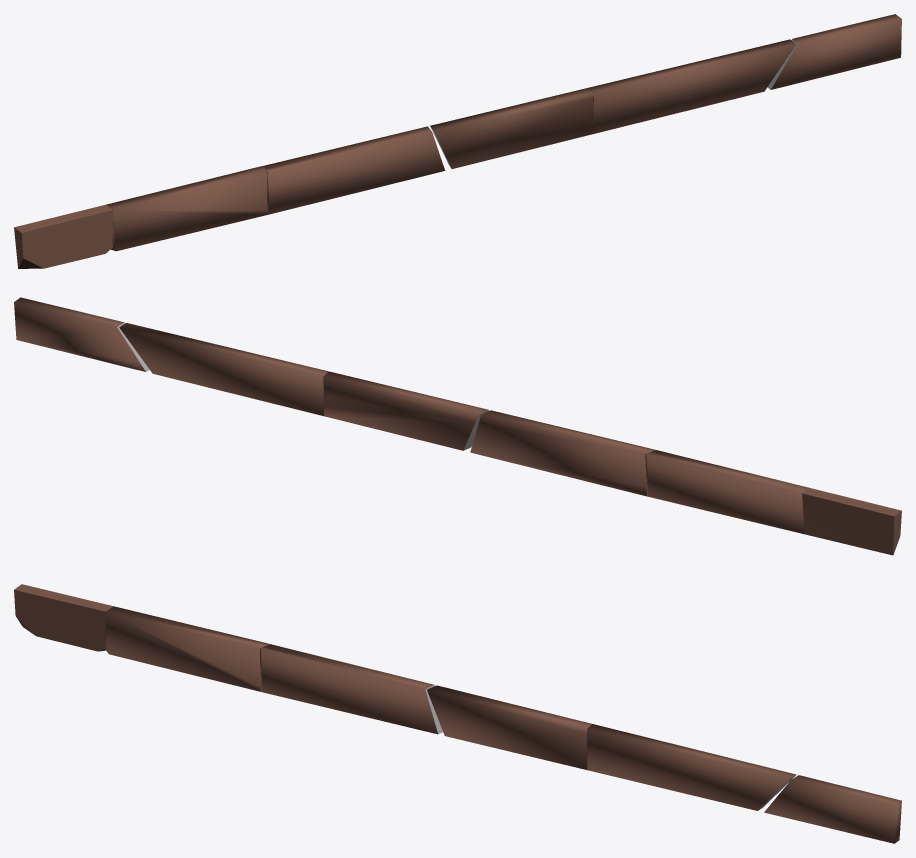
Rendered from Railing_DEST.fbx.
3 views of the same model, one above another, from view 1: azimuth 30°, elevation 25°; view 2: azimuth 150°, elevation 25°; view 3: azimuth 330°, elevation 25° (orthographic).
Parts seen in each view (by area): view 1: polySurface129_cell.011, polySurface129_cell.003, polySurface129_cell.004, polySurface129_cell.012, polySurface129_cell, polySurface129_cell.002, polySurface129_cell.006; view 2: polySurface129_cell.011, polySurface129_cell.003, polySurface129_cell.004, polySurface129_cell.012, polySurface129_cell, polySurface129_cell.007, polySurface129_cell.006; view 3: polySurface129_cell.011, polySurface129_cell.003, polySurface129_cell.004, polySurface129_cell.012, polySurface129_cell, polySurface129_cell.002, polySurface129_cell.006.
Boxes of the visible parts, x1,y1,x2,y2 form: polySurface129_cell.011: [586, 39, 795, 133]; polySurface129_cell.003: [264, 126, 445, 214]; polySurface129_cell.004: [106, 166, 267, 251]; polySurface129_cell.012: [430, 88, 594, 168]; polySurface129_cell: [767, 14, 901, 89]; polySurface129_cell.002: [21, 210, 113, 268]; polySurface129_cell.006: [14, 204, 112, 232]; polySurface129_cell.011: [119, 323, 328, 416]; polySurface129_cell.003: [470, 410, 655, 496]; polySurface129_cell.004: [645, 450, 809, 534]; polySurface129_cell.012: [323, 371, 488, 450]; polySurface129_cell: [14, 297, 149, 371]; polySurface129_cell.007: [802, 493, 894, 555]; polySurface129_cell.006: [802, 488, 901, 516]; polySurface129_cell.011: [587, 724, 796, 810]; polySurface129_cell.003: [260, 644, 442, 734]; polySurface129_cell.004: [105, 606, 270, 691]; polySurface129_cell.012: [427, 685, 591, 769]; polySurface129_cell: [764, 775, 901, 843]; polySurface129_cell.002: [14, 590, 105, 651]; polySurface129_cell.006: [14, 584, 113, 611].
Size of the model in its own units: 2107 by 98.91 by 32.24.
